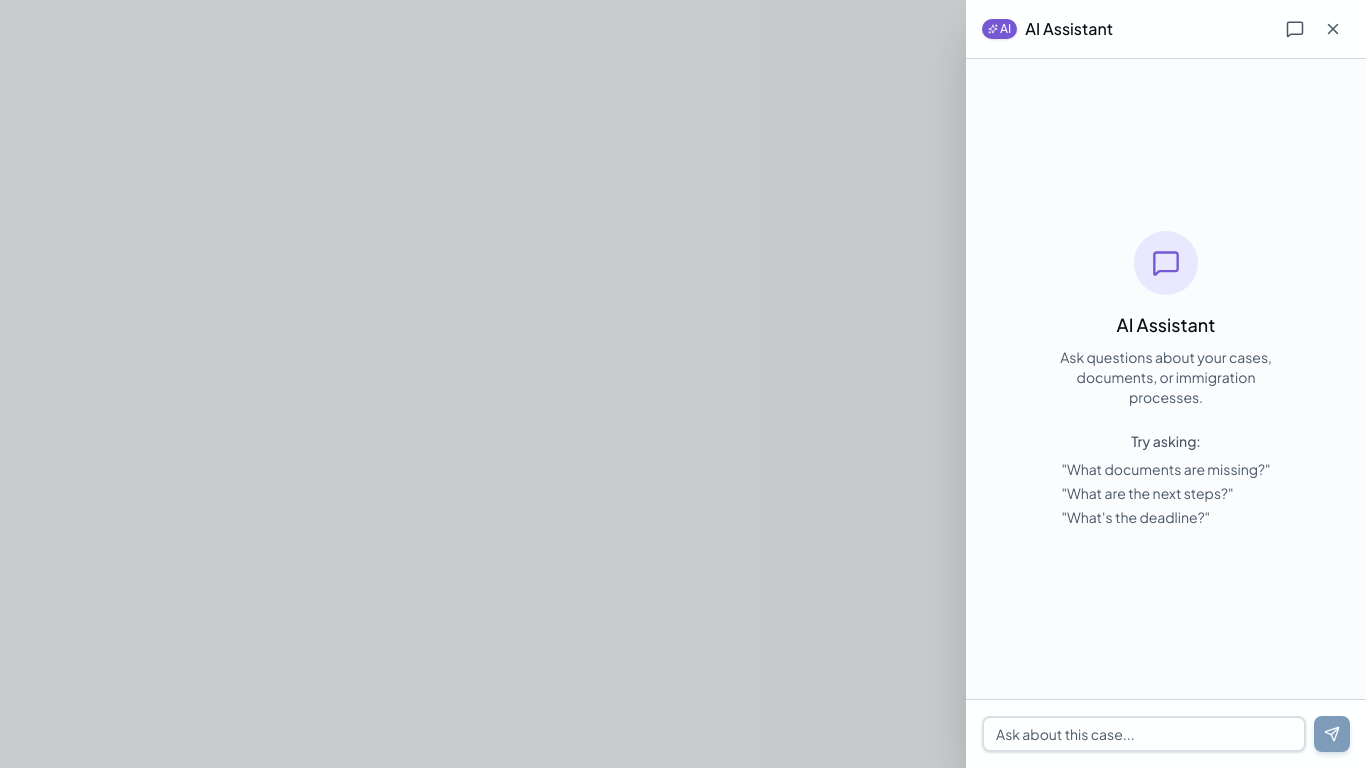
Test case: ChatPanel › conversation history › renders conversation list items
Click the button titled "Conversation history": (1295, 29) [1278,12,1312,46]
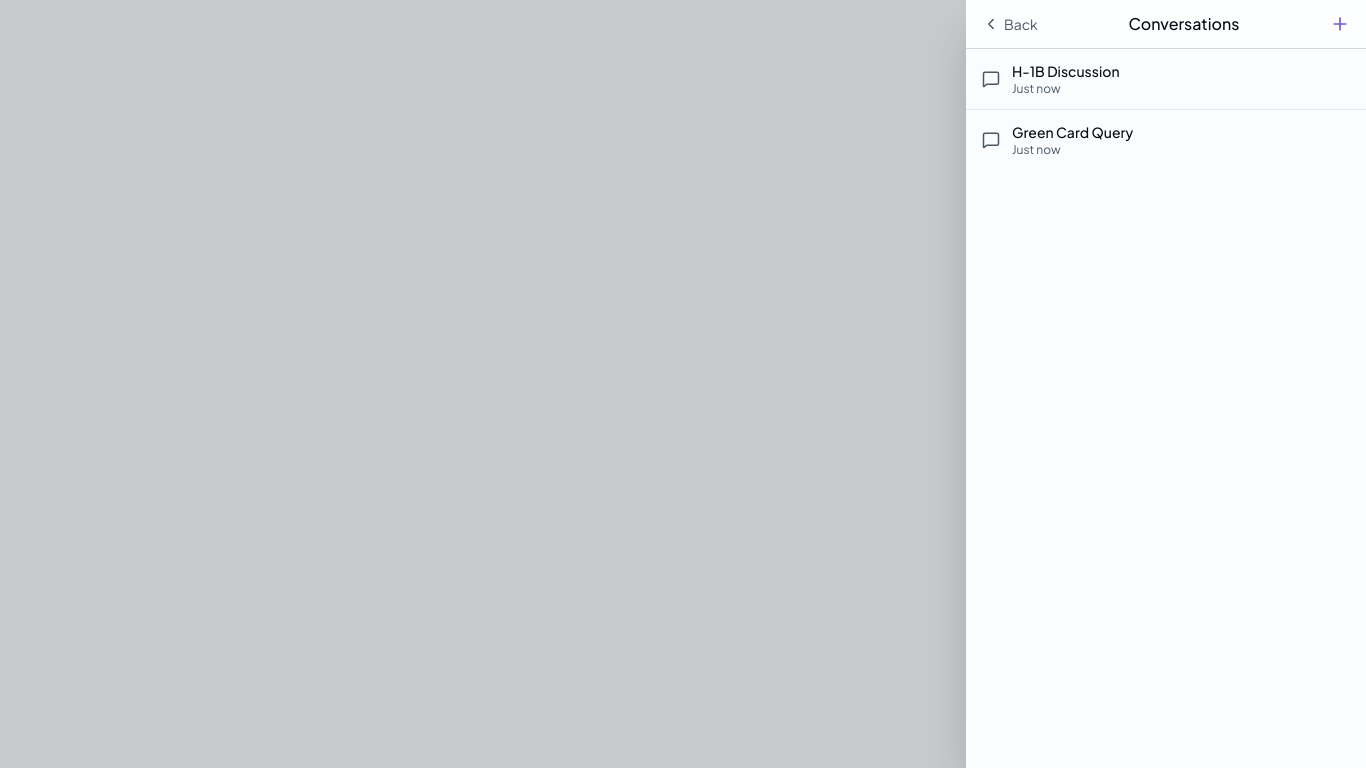
Result: the text "H-1B Discussion" is shown at [1012,62,1120,80]
Result: the text "Green Card Query" is shown at [1012,123,1133,141]
